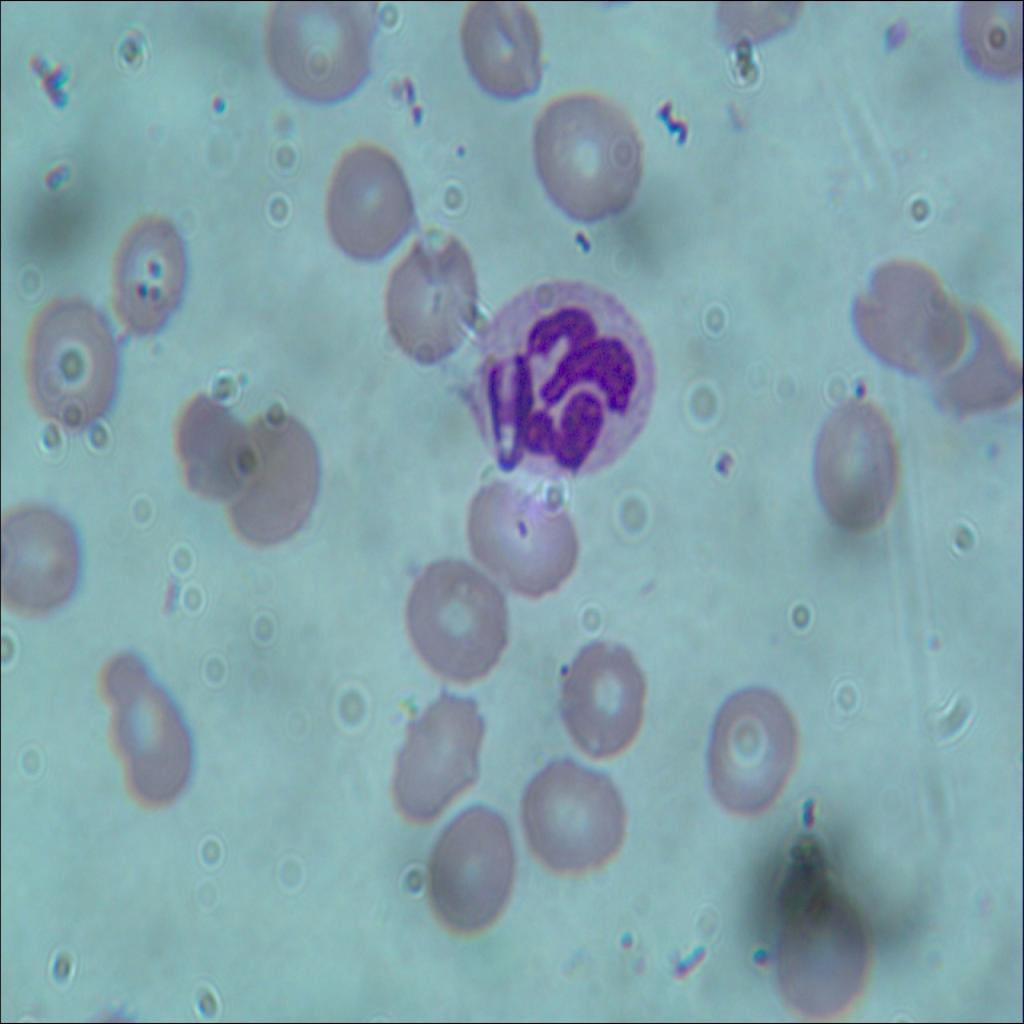Eritrosit: (533, 85, 655, 225), (214, 406, 326, 552), (458, 482, 578, 608), (512, 751, 630, 878), (101, 662, 204, 806), (704, 685, 804, 829), (398, 552, 506, 682), (21, 288, 118, 432), (851, 255, 963, 378), (382, 691, 490, 817), (776, 892, 870, 1023), (816, 394, 901, 538), (556, 624, 646, 757), (319, 141, 415, 264), (106, 209, 194, 339), (262, 0, 366, 106), (162, 387, 259, 499), (393, 228, 475, 358), (931, 312, 1023, 422), (434, 811, 518, 931), (455, 1, 549, 105), (0, 502, 82, 616)
Neutrofil: (466, 271, 664, 472)
Platelet: (878, 0, 914, 61), (843, 365, 875, 408), (615, 928, 643, 965), (546, 655, 576, 689), (708, 446, 734, 482), (201, 92, 229, 122), (566, 224, 591, 252), (448, 138, 478, 161)
